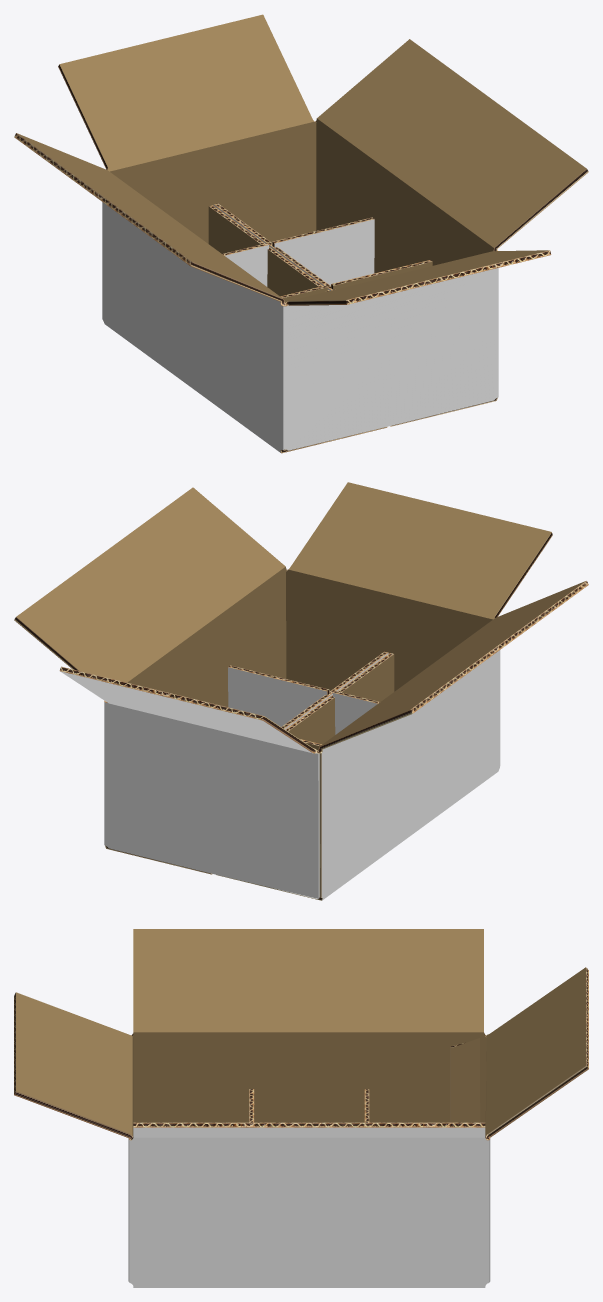
The model's file is Troquel1p0391.gltf.
3 renders of one model, top to bottom at view 1: azimuth 30°, elevation 25°; view 2: azimuth 150°, elevation 25°; view 3: azimuth 270°, elevation 25°, orthographic.
Parts seen in each view (by area): view 1: DAVID; view 2: DAVID; view 3: DAVID.
Part boxes in pixels (x1=…): DAVID: x1=14, y1=14, x2=588, y2=453; DAVID: x1=14, y1=482, x2=588, y2=900; DAVID: x1=14, y1=929, x2=588, y2=1287.
Bounding box in the file's own units: 0.284 × 0.1505 × 0.3575.
Materials: 3 (1 with a texture image).
